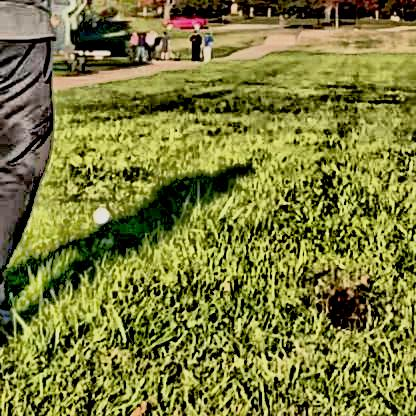golfball: (90, 204, 107, 223)
